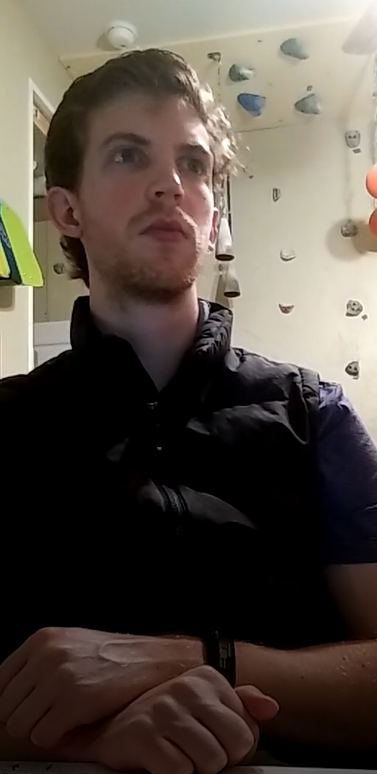Not Sleeping: (89, 129, 219, 183)
